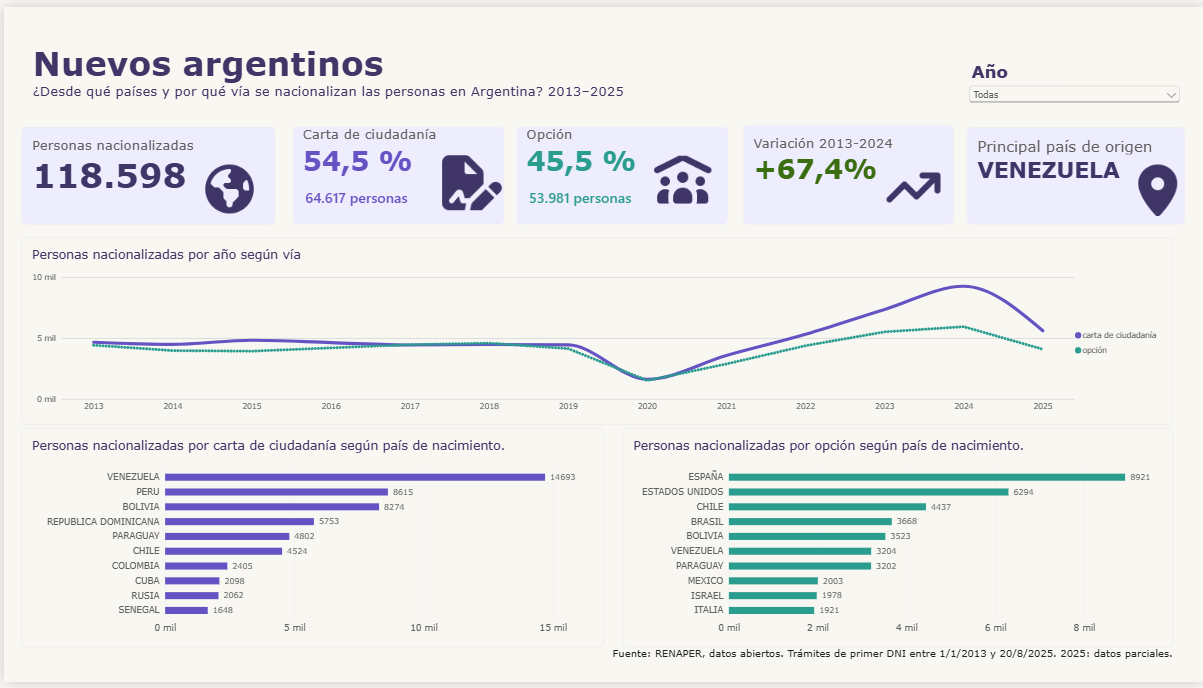

The page's visual inventory and layout, read from the dashboard file:
{"tool":"powerbi","page":{"name":"Panorama general","canvas":[1920,1080],"ordinal":0},"visuals":[{"type":"cardVisual","fields":{"Data":["base_nacionalizaciones.% Carta"]},"box":[462,192,338,156],"z":500},{"type":"cardVisual","fields":{"Data":["base_nacionalizaciones.Var 2013-2024"]},"box":[1182,188,338,160],"z":1000},{"type":"cardVisual","fields":{"Data":["base_nacionalizaciones.% Opción"]},"box":[820,192,338,156],"z":2000},{"type":"clusteredBarChart","title":"Personas nacionalizadas por carta de ciudadanía según país de nacimiento.","fields":{"Category":["base_nacionalizaciones.País de nacimiento"],"Y":["Sum(base_nacionalizaciones.Cantidad)"]},"box":[28,674,932,350],"z":3000},{"type":"clusteredBarChart","title":"Personas nacionalizadas por opción según país de nacimiento.","fields":{"Category":["base_nacionalizaciones.País de nacimiento"],"Y":["Sum(base_nacionalizaciones.Cantidad)"]},"box":[990,674,880,350],"z":4000},{"type":"textbox","box":[45,55,1052.5,107.5],"z":5000},{"type":"cardVisual","fields":{"Data":["base_nacionalizaciones.Total nacionalizaciones"]},"box":[28,192,406,156],"z":6000},{"type":"cardVisual","fields":{"Data":["base_nacionalizaciones.Principal origen"]},"box":[1540,192,350,156],"z":8000},{"type":"image","box":[306,252,109.8,78],"z":9000},{"type":"image","box":[690,218,110,126],"z":10000},{"type":"image","box":[1040,218,92,122],"z":11000},{"type":"image","box":[1412,248,86,82],"z":12000},{"type":"image","box":[1806,252,80,82.5],"z":13000},{"type":"slicer","fields":{"Values":["base_nacionalizaciones.Año"]},"box":[1540,85.7,345.7,77.1],"z":14000},{"type":"lineChart","title":"Personas nacionalizadas por año según vía","fields":{"Category":["base_nacionalizaciones.Año"],"Y":["base_nacionalizaciones.Total carta","base_nacionalizaciones.Total opción"]},"box":[28,368,1842,300],"z":15000},{"type":"textbox","box":[306,1024,1564,26],"z":16000}]}

Visuals, with their boxes in screenshot pixels (x1, y1, x2, y2), scaled from the page's 1920x1080 canvas onto the 1203x688 screenshot:
cardVisual - base_nacionalizaciones.% Carta: 289,122,501,222
cardVisual - base_nacionalizaciones.Var 2013-2024: 741,120,952,222
cardVisual - base_nacionalizaciones.% Opción: 514,122,726,222
"Personas nacionalizadas por carta de ciudadanía según país de nacimiento." clusteredBarChart: 18,429,602,652
"Personas nacionalizadas por opción según país de nacimiento." clusteredBarChart: 620,429,1172,652
textbox: 28,35,688,104
cardVisual - base_nacionalizaciones.Total nacionalizaciones: 18,122,272,222
cardVisual - base_nacionalizaciones.Principal origen: 965,122,1184,222
image: 192,161,261,210
image: 432,139,501,219
image: 652,139,709,217
image: 885,158,939,210
image: 1132,161,1182,213
slicer - base_nacionalizaciones.Año: 965,55,1182,104
"Personas nacionalizadas por año según vía" lineChart: 18,234,1172,426
textbox: 192,652,1172,669
